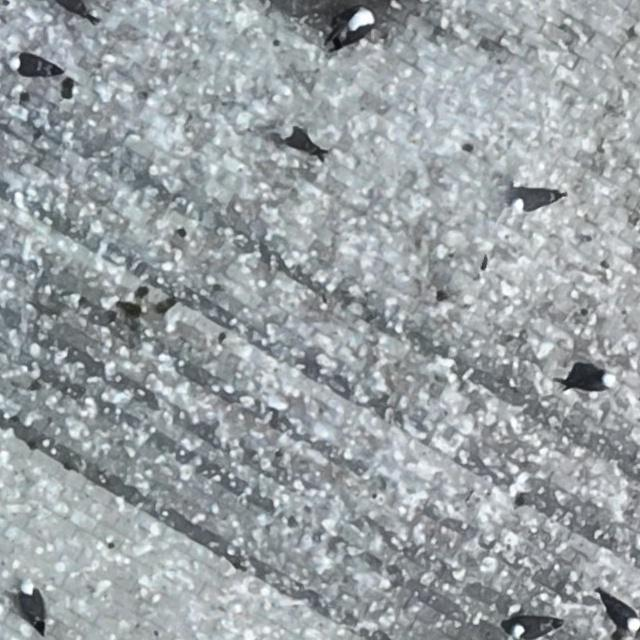umineko: (603, 597, 638, 631), (280, 127, 324, 154), (338, 10, 370, 39), (9, 56, 55, 76), (569, 372, 616, 391), (20, 586, 42, 621), (511, 192, 552, 210), (512, 620, 548, 637)
